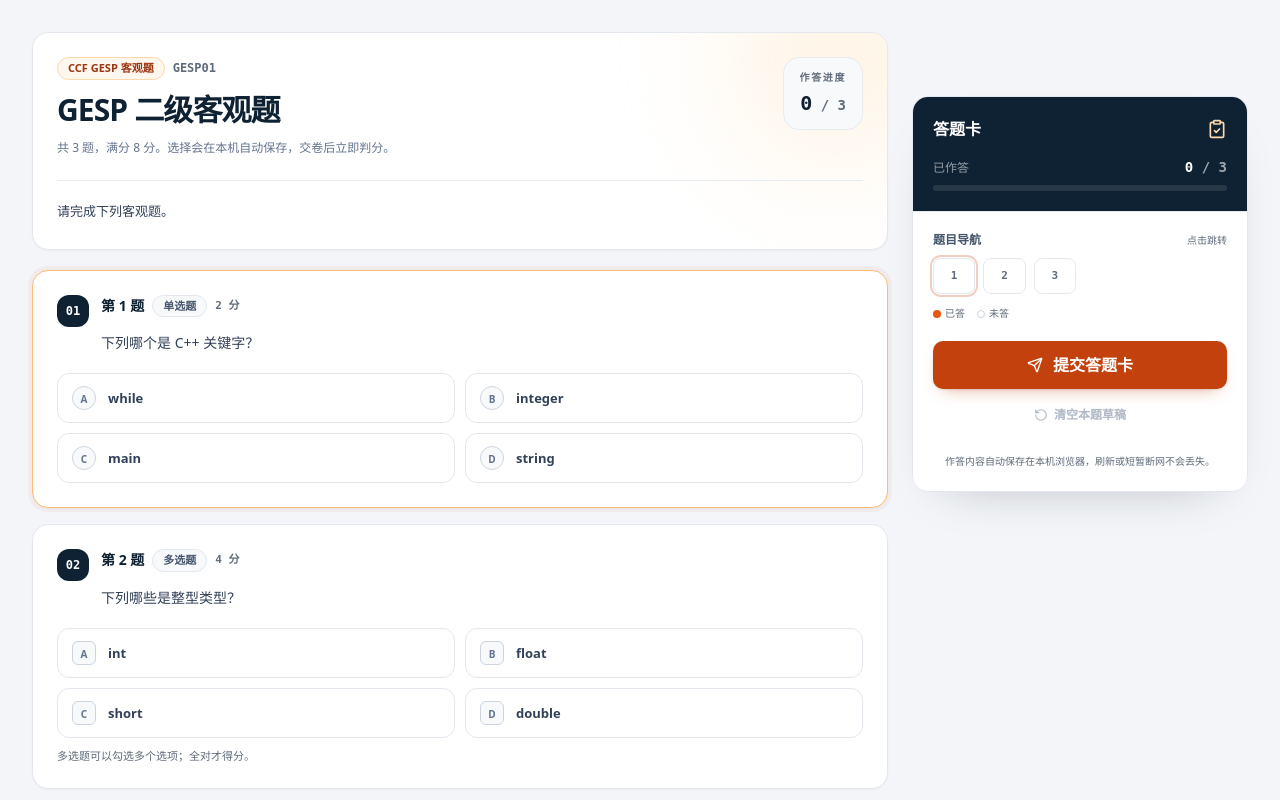
Test case: GESPQuizView › blocks submission while questions are unanswered
This screenshot has width=1280, height=800.
Click the button "提交答题卡": (1080, 365) [933, 341, 1227, 389]
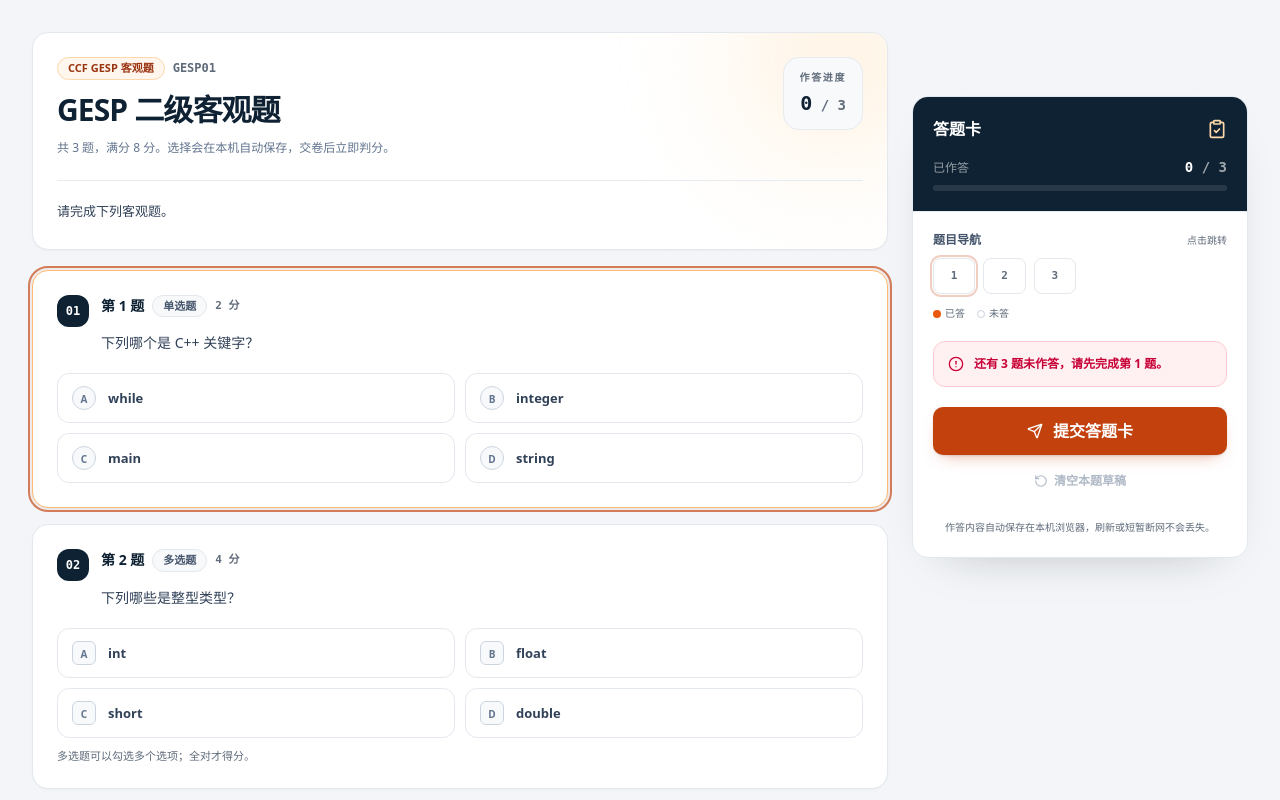
Check: the message shows "还有 3 题未作答", box [974, 355, 1168, 372]
